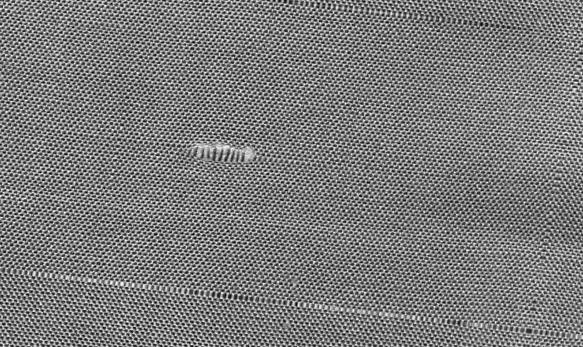slub: (180, 138, 263, 175)
